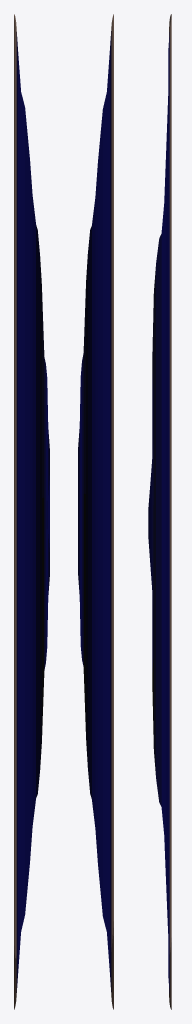
Rendered from blue_flag_222x05.gltf.
3 renders of one model, left to right at view 1: azimuth 30°, elevation 25°; view 2: azimuth 210°, elevation 25°; view 3: azimuth 270°, elevation 25°, orthographic.
Parts seen in each view (by area): view 1: blue_flag_222x05; view 2: blue_flag_222x05; view 3: blue_flag_222x05.
Boxes of the visible parts, x1,y1,x2,y2 form: blue_flag_222x05: (14, 14, 49, 1009); blue_flag_222x05: (78, 14, 113, 1009); blue_flag_222x05: (148, 14, 171, 1009).
Bounding box in the file's own units: 0.0548 × 1.97 × 0.0417.
Materials: 1 (1 with a texture image).
